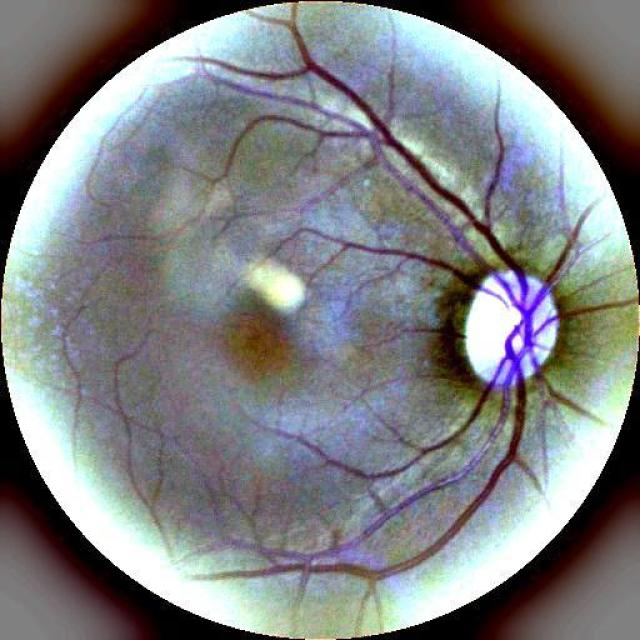Macula: (214, 308, 297, 386)
Nerves: (191, 18, 594, 575), (558, 295, 635, 320)
Optic Disk: (472, 271, 557, 383)
